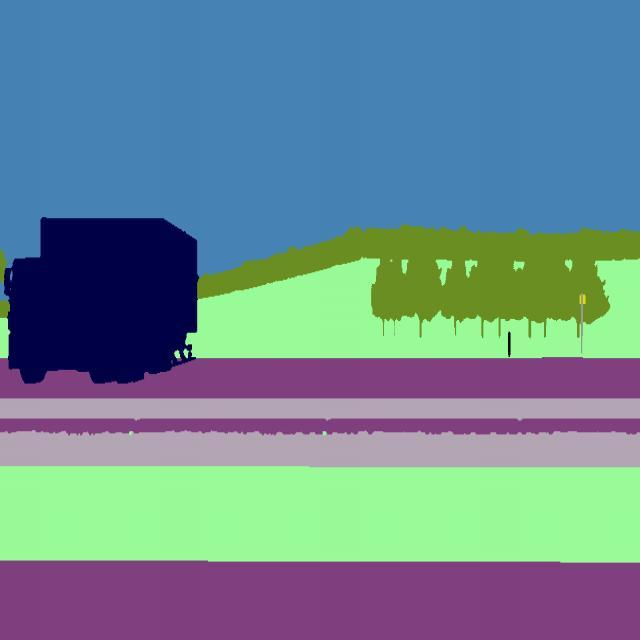safe: (4, 209, 205, 386)
